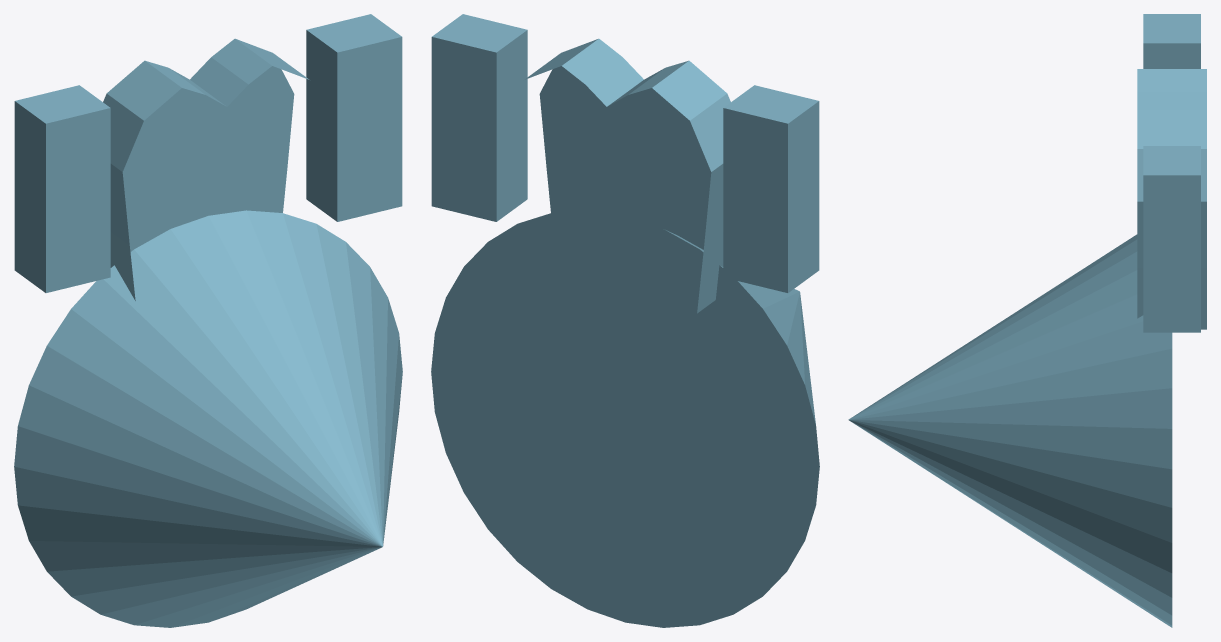
The model's file is dress.glb.
3 views of the same model, side by side, from view 1: azimuth 30°, elevation 25°; view 2: azimuth 150°, elevation 25°; view 3: azimuth 270°, elevation 25° (orthographic). The views are drawn at different scales.
Parts seen in each view (by area): view 1: dress-1, dress-0, dress-2, dress-3; view 2: dress-1, dress-0, dress-2, dress-3; view 3: dress-1, dress-3, dress-0, dress-2.
Boxes of the visible parts, x1=… form: dress-1: x1=14, y1=210, x2=402, y2=627; dress-0: x1=103, y1=38, x2=309, y2=300; dress-2: x1=14, y1=85, x2=110, y2=292; dress-3: x1=306, y1=14, x2=402, y2=221; dress-1: x1=431, y1=210, x2=819, y2=627; dress-0: x1=524, y1=38, x2=730, y2=313; dress-2: x1=723, y1=85, x2=819, y2=292; dress-3: x1=431, y1=14, x2=527, y2=221; dress-1: x1=848, y1=234, x2=1172, y2=627; dress-3: x1=1143, y1=146, x2=1200, y2=332; dress-0: x1=1137, y1=69, x2=1206, y2=329; dress-2: x1=1143, y1=14, x2=1200, y2=68.
Bounding box in the file's own units: 3.6 × 4.95 × 3.1.
